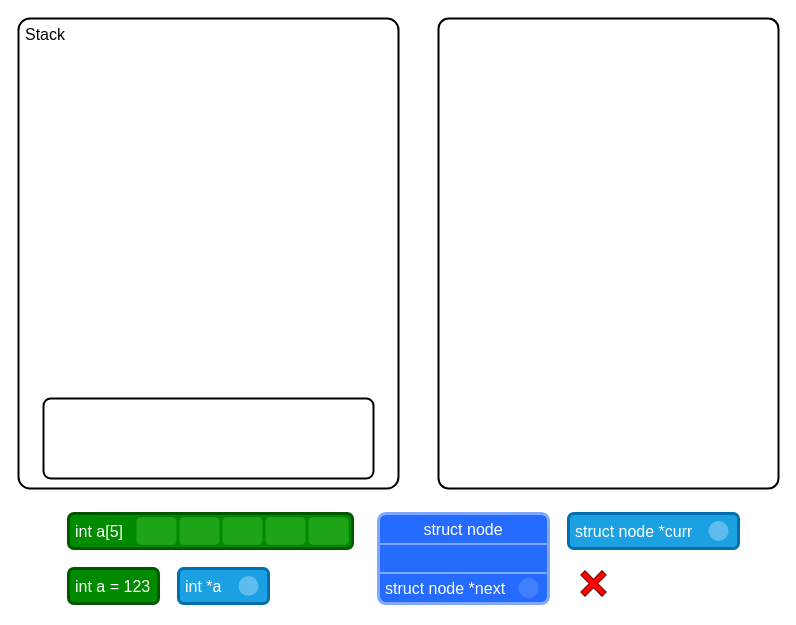
This 796x625 diagram has some shape labels left out. The centre of each missing label's shape, as x and y in pixels:
"Heap" goes at (x=608, y=253).
"int val = 123" goes at (x=463, y=558).
"main" goes at (x=208, y=438).
